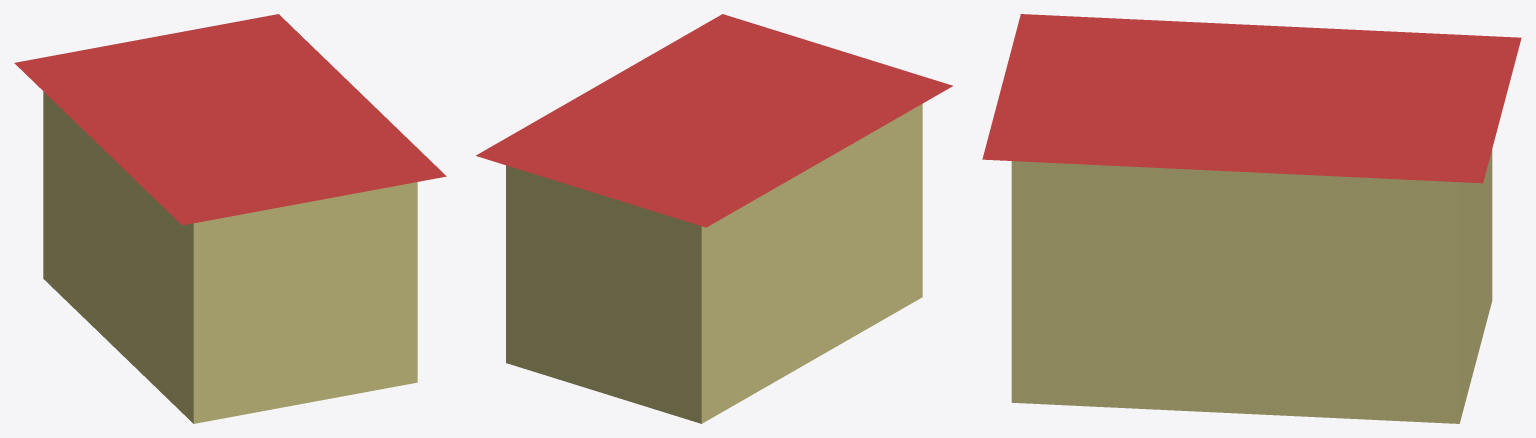
3 views of the same model, side by side, from view 1: azimuth 30°, elevation 25°; view 2: azimuth 150°, elevation 25°; view 3: azimuth 270°, elevation 25° (orthographic). The views are drawn at different scales.
Size of the model in its own units: 7.55 by 10.16 by 5.26.
